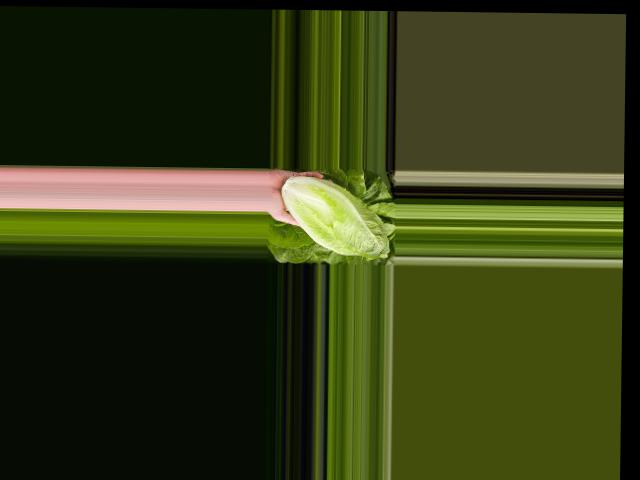lettuce: (278, 172, 390, 259)
